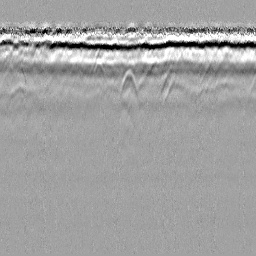cavity: (119, 68, 139, 101)
